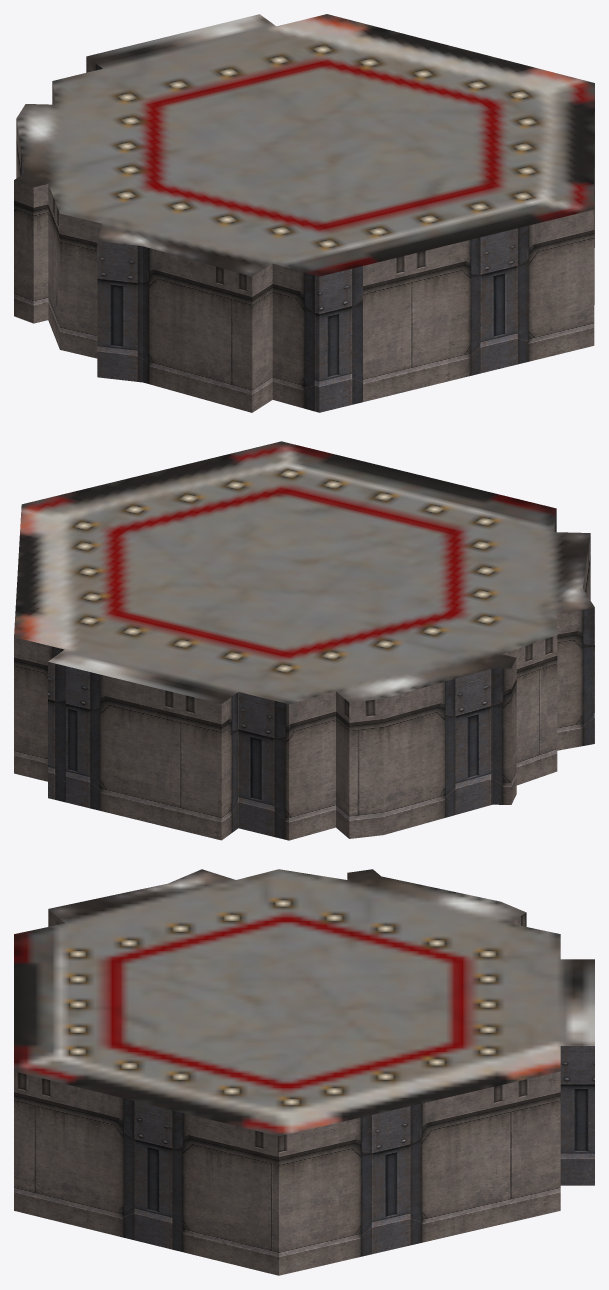
The model's file is bsealed_heavy_49.glb.
3 renders of one model, top to bottom at view 1: azimuth 30°, elevation 25°; view 2: azimuth 150°, elevation 25°; view 3: azimuth 270°, elevation 25°, orthographic. The views are drawn at different scales.
Parts seen in each view (by area): view 1: buildings/saxarba/bsealed_heavy/bsealed_heavy_49; view 2: buildings/saxarba/bsealed_heavy/bsealed_heavy_49; view 3: buildings/saxarba/bsealed_heavy/bsealed_heavy_49.
Part boxes in pixels (box(x1,y1,x2,y2)): buildings/saxarba/bsealed_heavy/bsealed_heavy_49: box(14, 14, 594, 412); buildings/saxarba/bsealed_heavy/bsealed_heavy_49: box(14, 441, 594, 840); buildings/saxarba/bsealed_heavy/bsealed_heavy_49: box(14, 869, 594, 1275).
Size of the model in its own units: 74 by 18 by 68.
